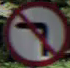Don't turn left: (5, 9, 60, 62)
